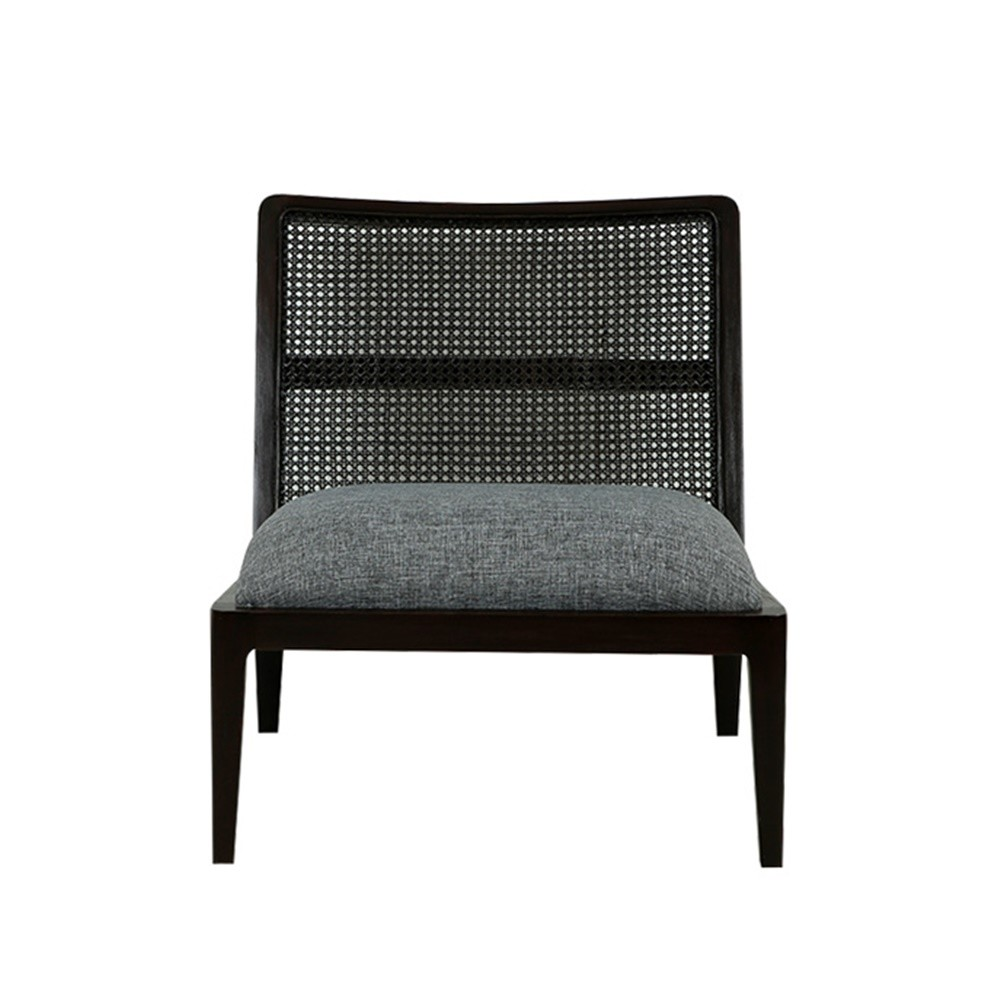kursi: (199, 192, 813, 878)
